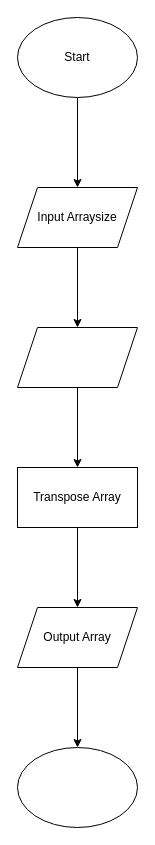
The diagram is 155 pixels wide and 845 high, and some of its shapes have lost their labels. The shapes that lost their labels are listed below. From the top down, each one's centre as x and y in pixels, then its label:
At (x=77, y=357): "Input Array".
At (x=77, y=787): "End".
